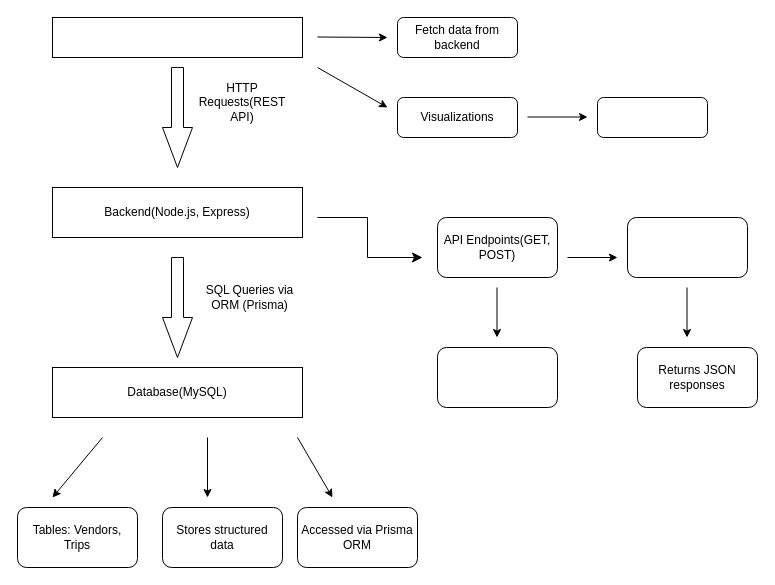
Some shapes in this 775 by 585 pixel diagram are drawn without their labels. The shapes that lost their labels are listed below. From the top down, each one's centre as x and y in pixels, then its label:
pixel 177 37: Frontend(HTML, CSS, JavaScript)
pixel 652 117: User Interface
pixel 687 247: Data Processing Logic
pixel 497 377: Connects to Database
